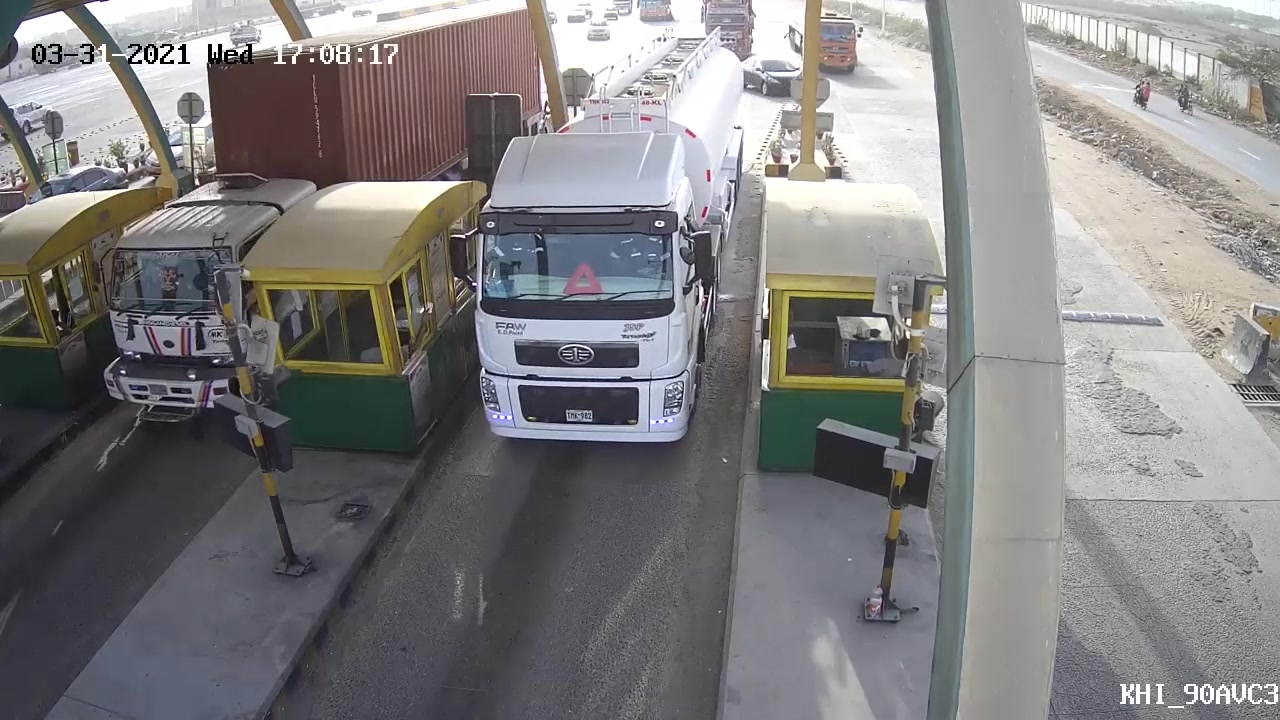F6: (448, 27, 754, 465)
